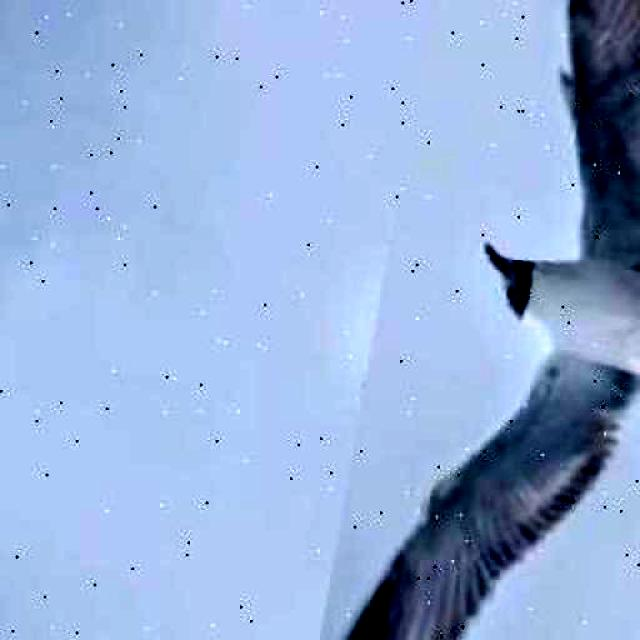airplane: (301, 0, 640, 640)
